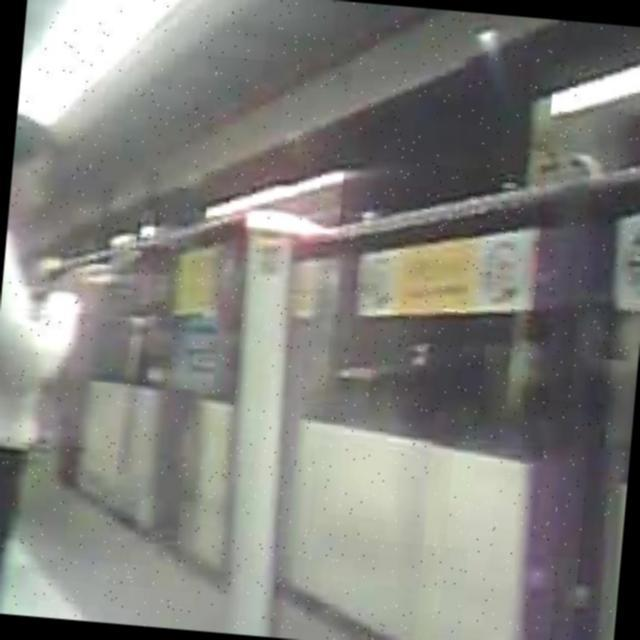person: (0, 110, 127, 620)
